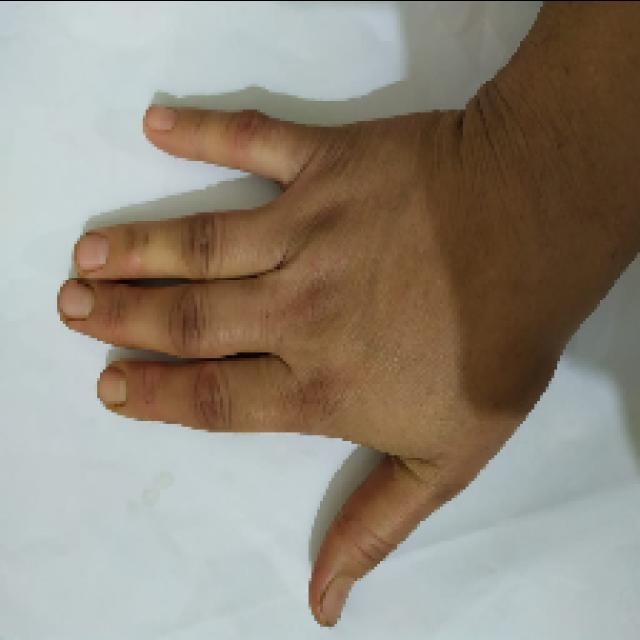Nail: (320, 574, 354, 625), (58, 280, 94, 318), (75, 233, 108, 268), (97, 368, 126, 403), (145, 105, 177, 129)
